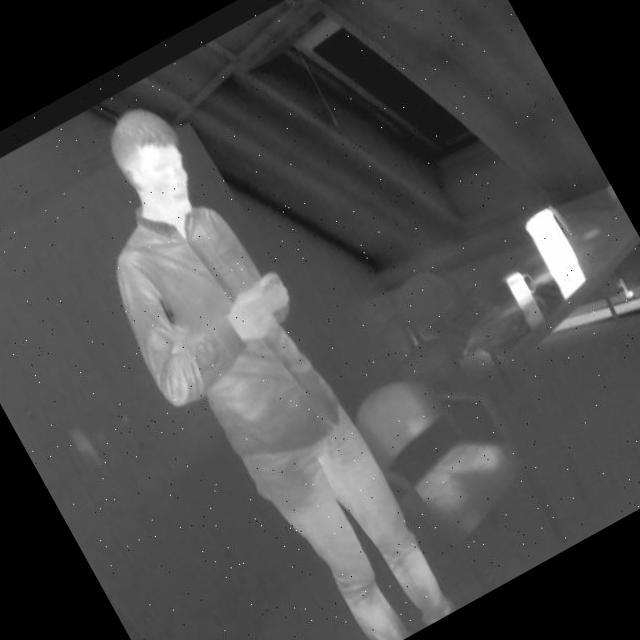person: (26, 71, 475, 640)
